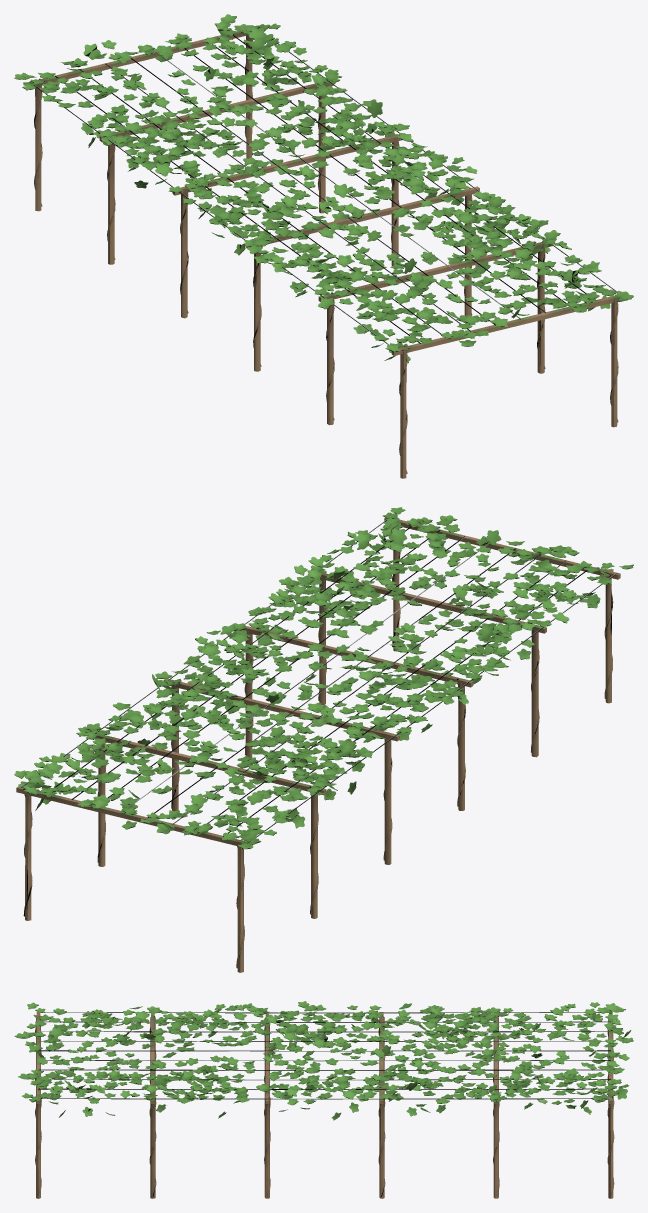
Rendered from SK_GrapeTrellis.fbx.
3 views of the same model, one above another, from view 1: azimuth 30°, elevation 25°; view 2: azimuth 150°, elevation 25°; view 3: azimuth 270°, elevation 25° (orthographic). The views are drawn at different scales.
Parts seen in each view (by area): view 1: SK_GrapeTrellis; view 2: SK_GrapeTrellis; view 3: SK_GrapeTrellis.
Part boxes in pixels (x1,y1,x2,y2): SK_GrapeTrellis: (14, 14, 633, 478); SK_GrapeTrellis: (14, 507, 633, 972); SK_GrapeTrellis: (14, 1001, 633, 1198).
Bounding box in the file's own units: 989 × 539 × 2599.
